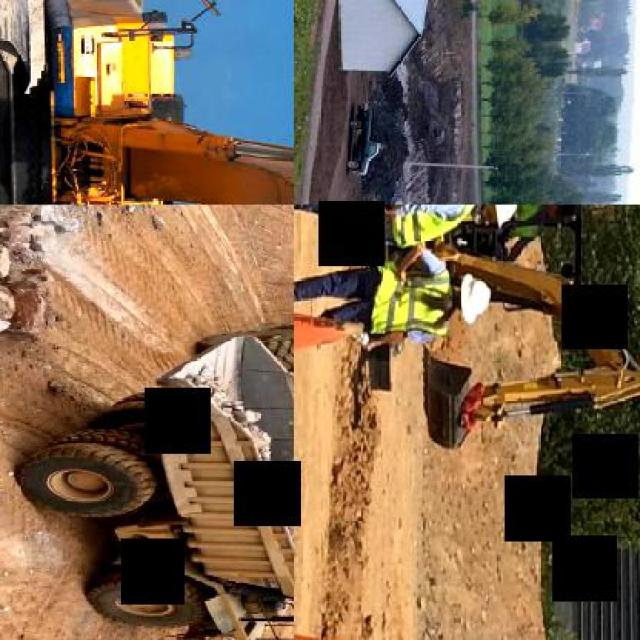buldozerpayloadergrader: (188, 317, 292, 497)
dump_truck: (11, 332, 292, 638)
excavator: (362, 205, 638, 452), (0, 0, 292, 203)
